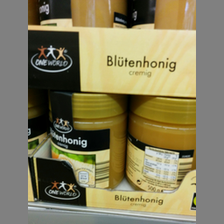honey: (49, 91, 126, 189), (128, 95, 196, 194)
